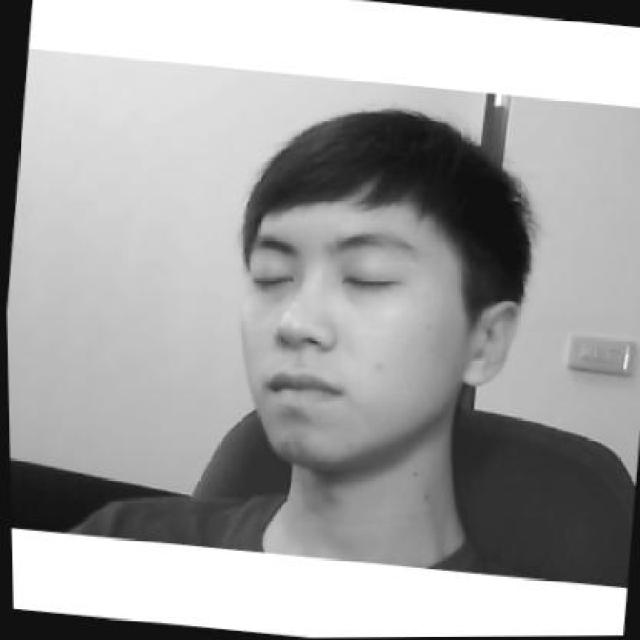inattentif: (211, 90, 538, 492)
